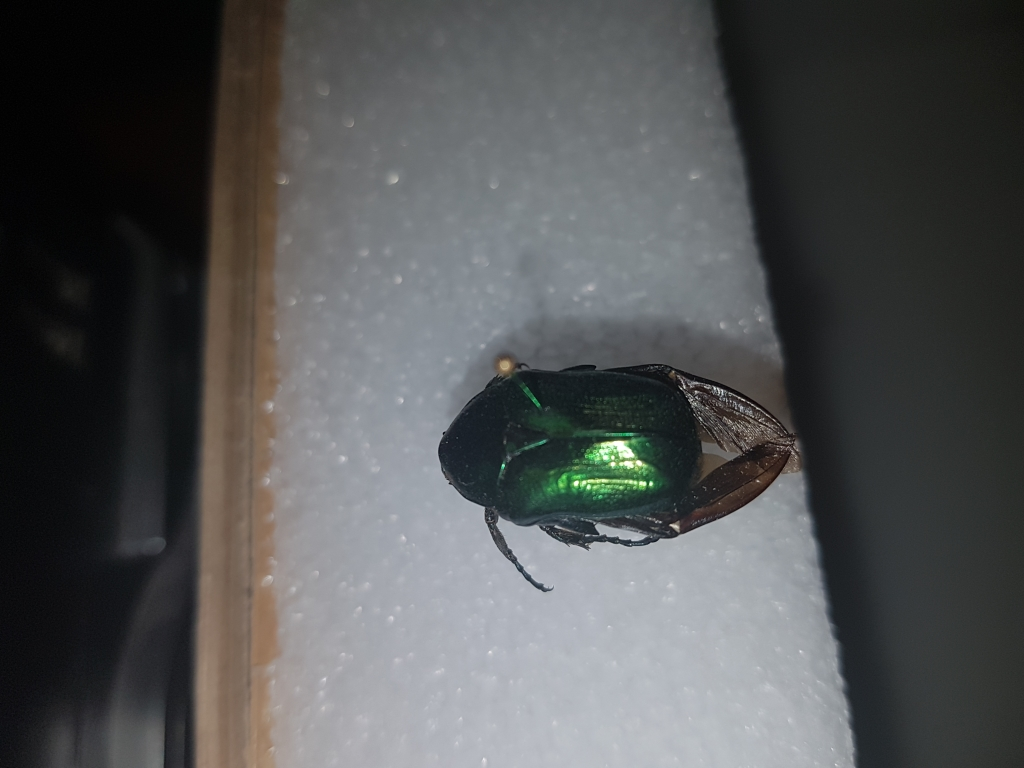Protaetia_angustata_angustata: (427, 339, 815, 593)
